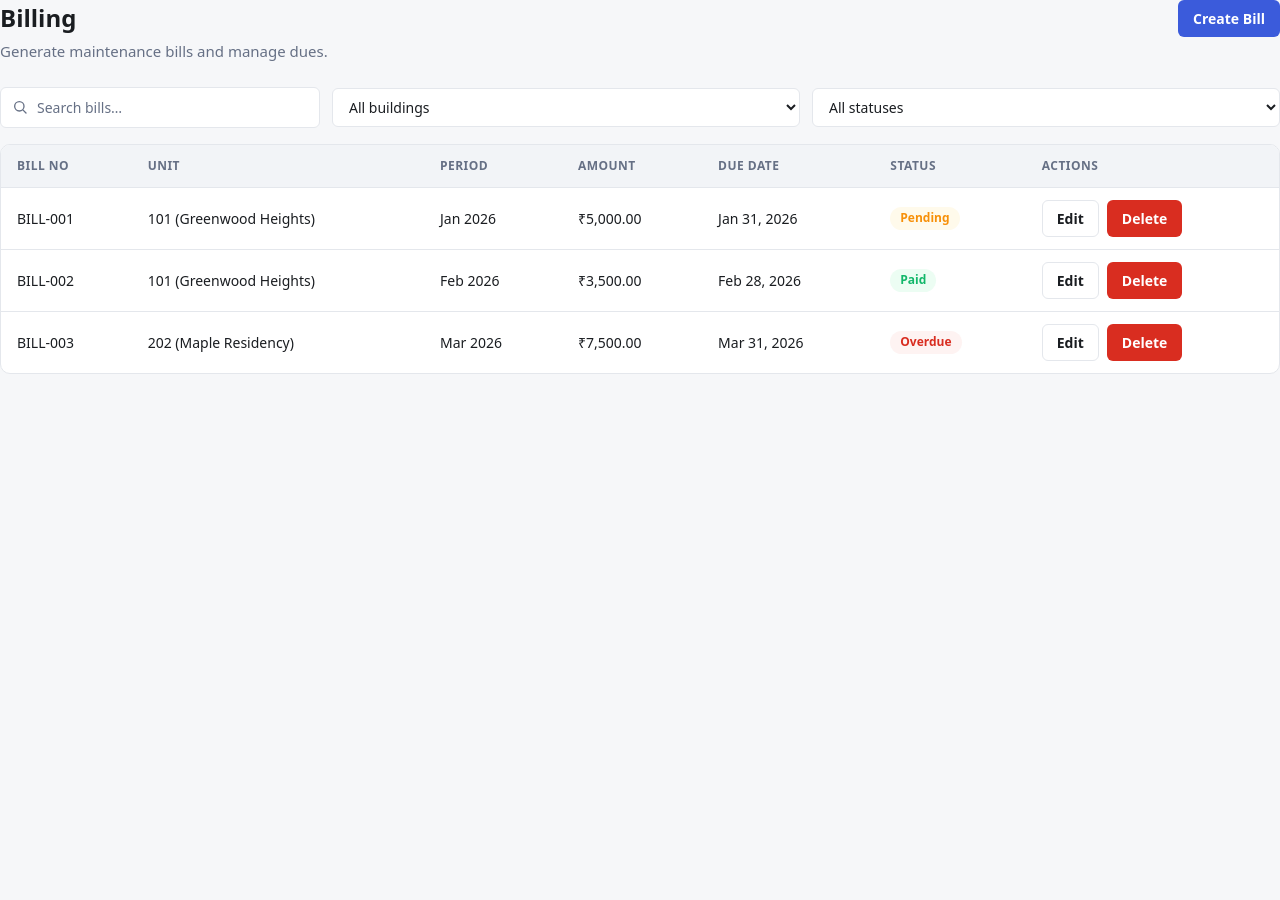
BillingPage CRUD functionality › validates required Unit, Period, and Amount before creating
Expected: the text "BILL-001" is shown, [1,187,132,249]
Click the button "Create Bill". click: (1229, 18)
box: [1178,0,1279,37]
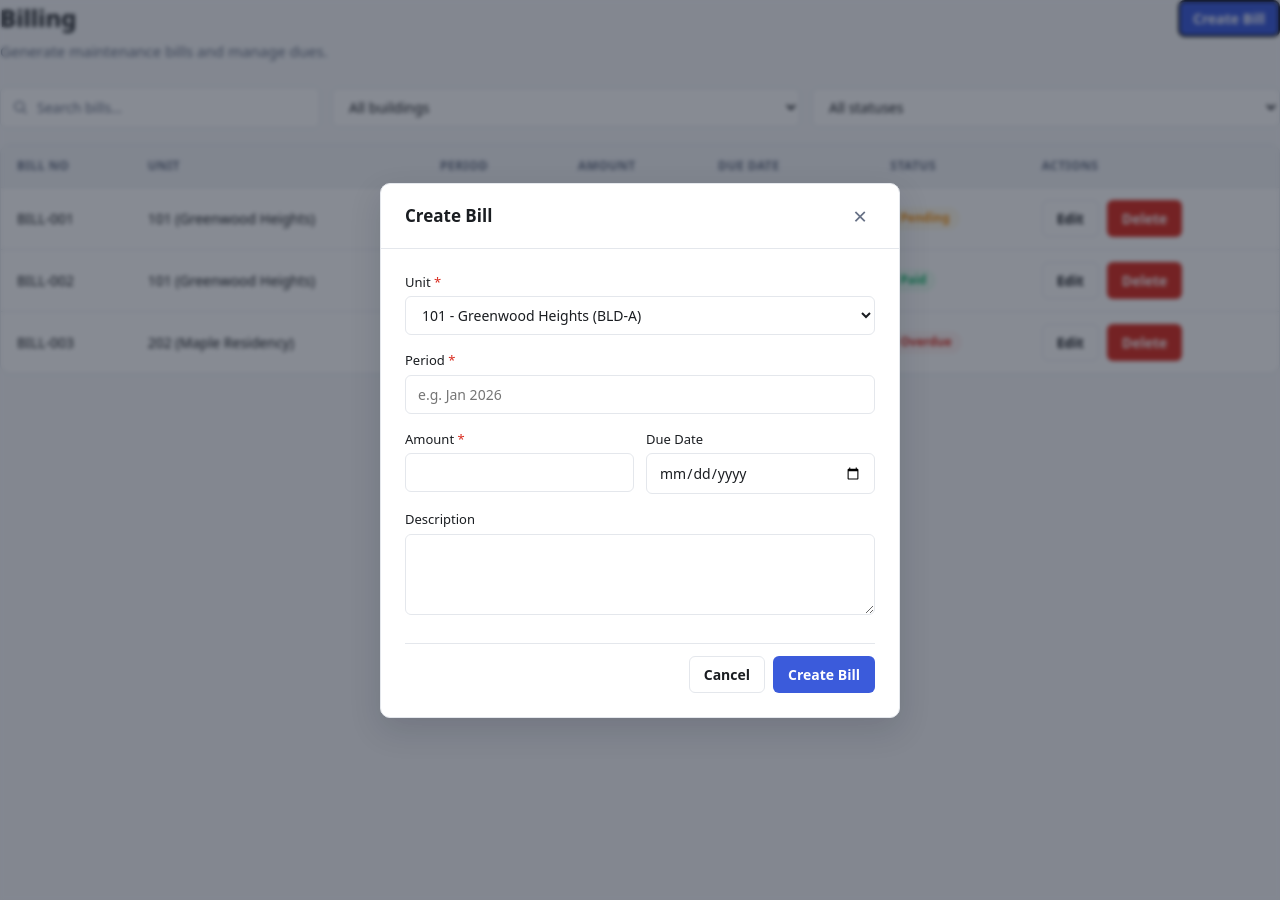
Click the button "Create Bill". click: (824, 674)
box: [773,656,875,692]
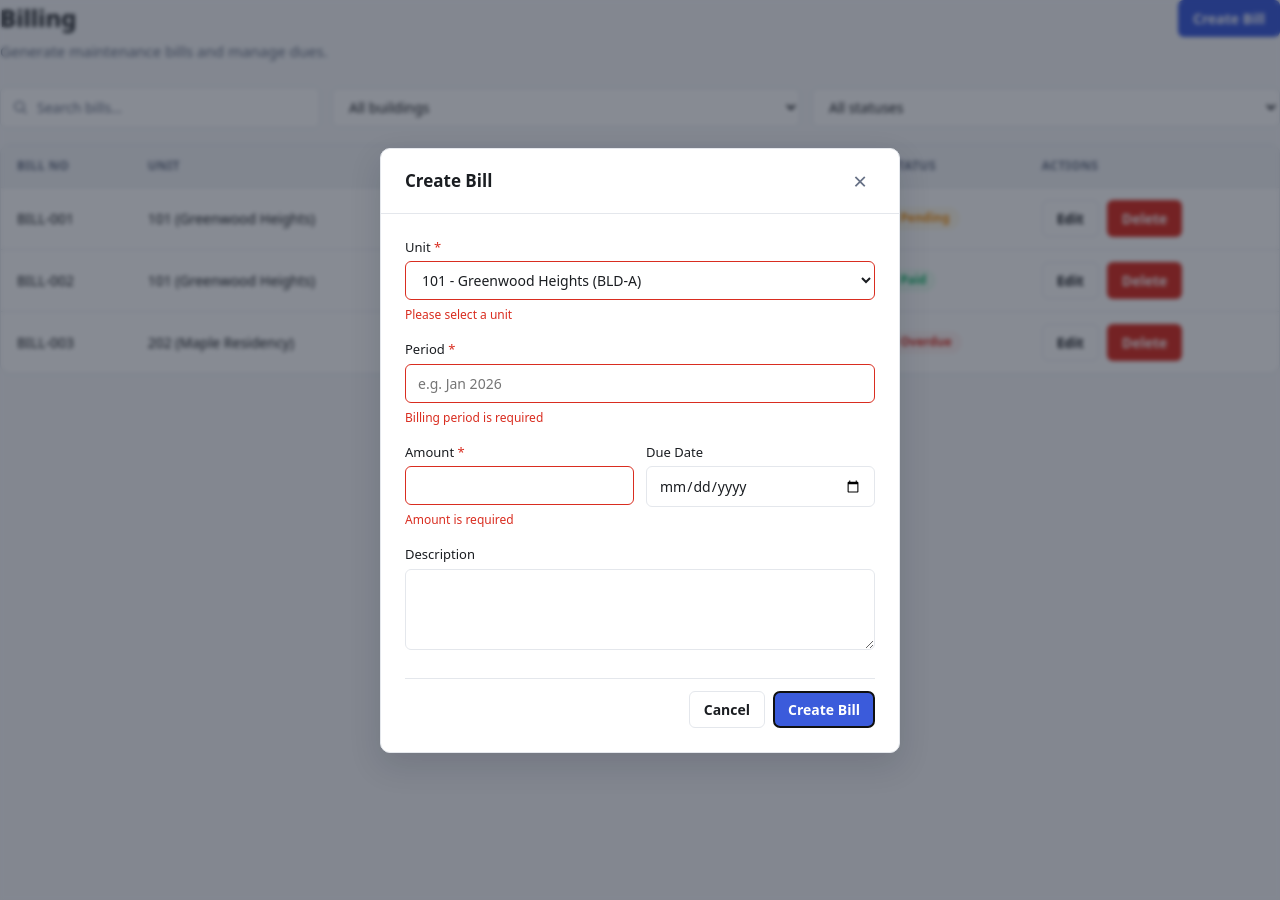
Expected: the text "Please select a unit" is shown, [405,306,512,323]
Expected: the text "Billing period is required" is shown, [405,408,543,426]
Expected: the text "Amount is required" is shown, [405,511,514,528]
